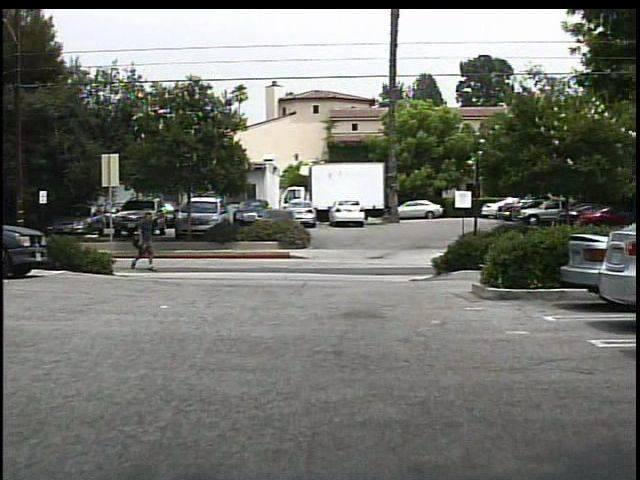person: (130, 209, 163, 276)
